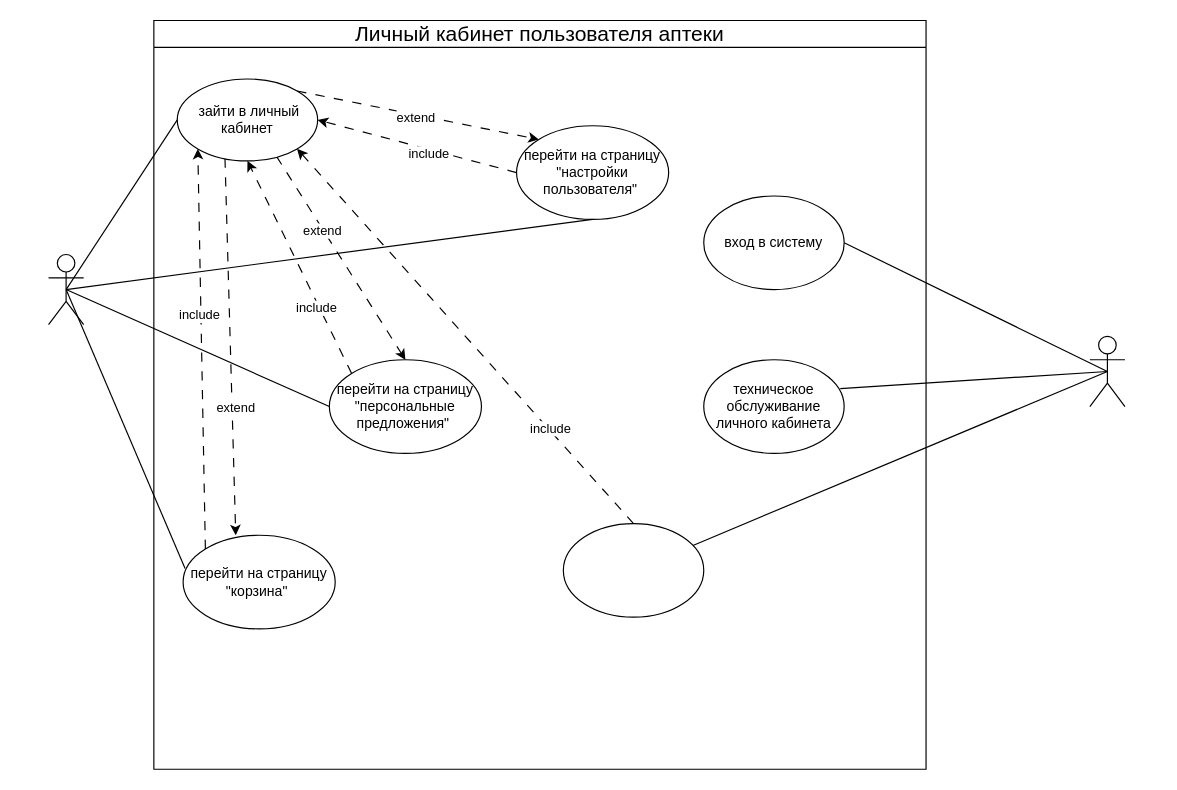
This 1177x790 diagram has some shape labels left out. The shapes that lost their labels are listed below. From the top down, each one's centre as x and y in pixels, then its label:
(x=65, y=289): пользователь
(x=1107, y=371): администратор
(x=633, y=569): управление данными пользователя
